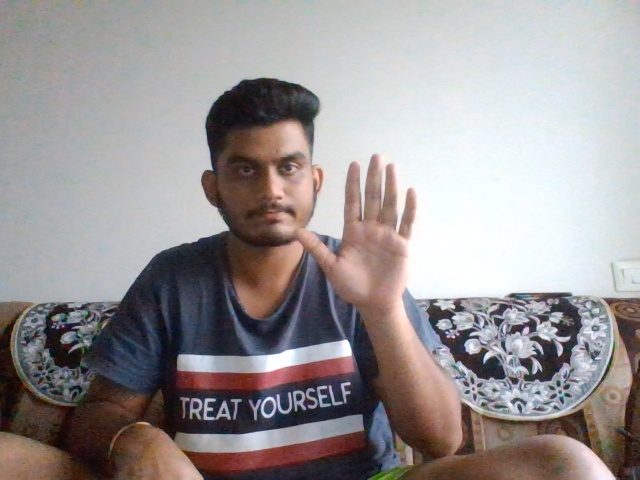Hello: (294, 153, 436, 310)
